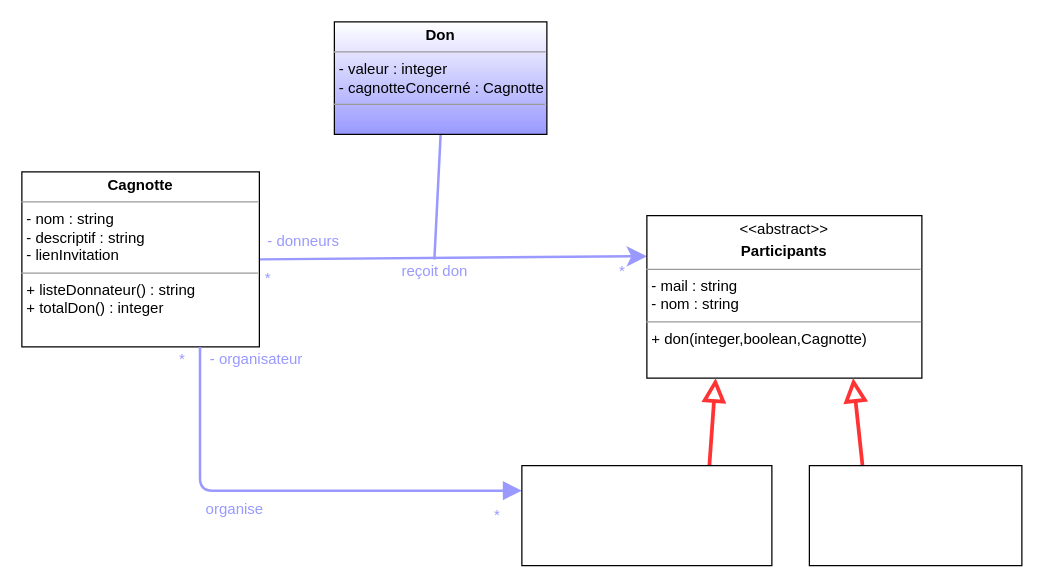
Image size: 1044x588. Some labels were removed from this diagram. The box of each missing label's shape, as (x1, y1, x2, y2) in pixels:
ParticipantsInscrits - motDePasse : string: (521, 464, 772, 566)
ParticipantsNonInscrits: (808, 464, 1022, 566)
